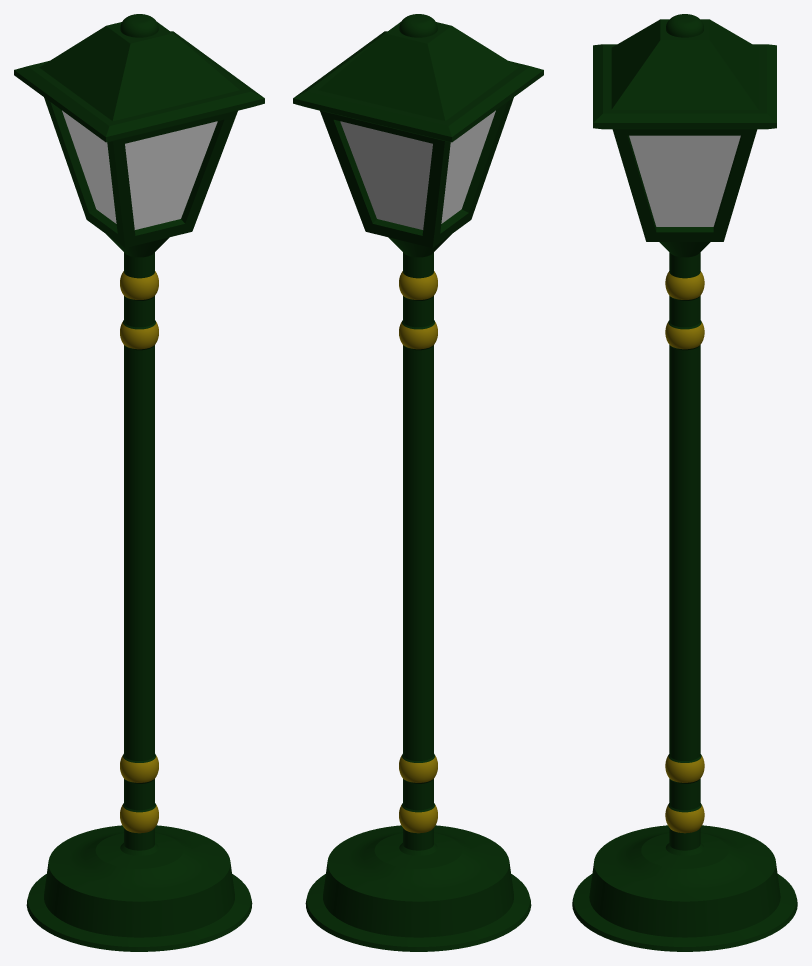
Rendered from StreetLight1.fbx.
3 views of the same model, side by side, from view 1: azimuth 30°, elevation 25°; view 2: azimuth 150°, elevation 25°; view 3: azimuth 270°, elevation 25° (orthographic).
Visible parts, largest first — view 1: StreetLight1; view 2: StreetLight1; view 3: StreetLight1.
Part boxes in pixels (x1=…): StreetLight1: x1=14, y1=14, x2=264, y2=951; StreetLight1: x1=293, y1=14, x2=543, y2=951; StreetLight1: x1=572, y1=14, x2=797, y2=951.
Size of the model in its own units: 357 by 1548 by 357.
